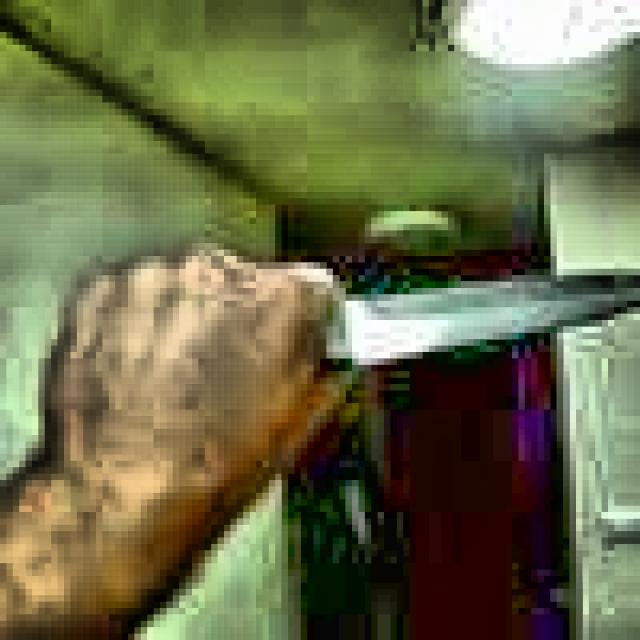knife: (317, 275, 634, 361)
